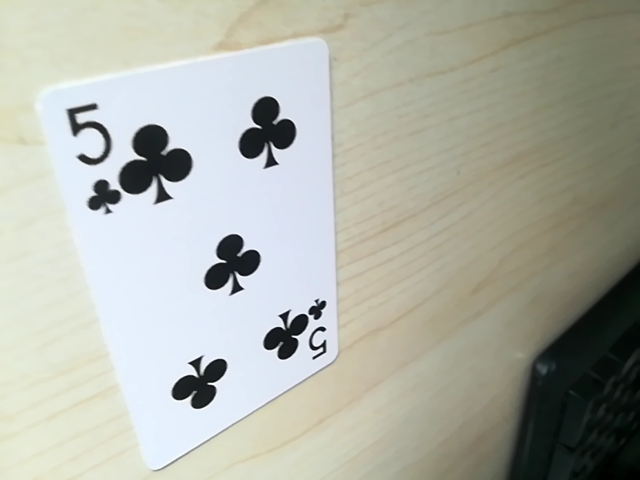mh 5: (62, 90, 123, 216), (305, 295, 333, 366)
